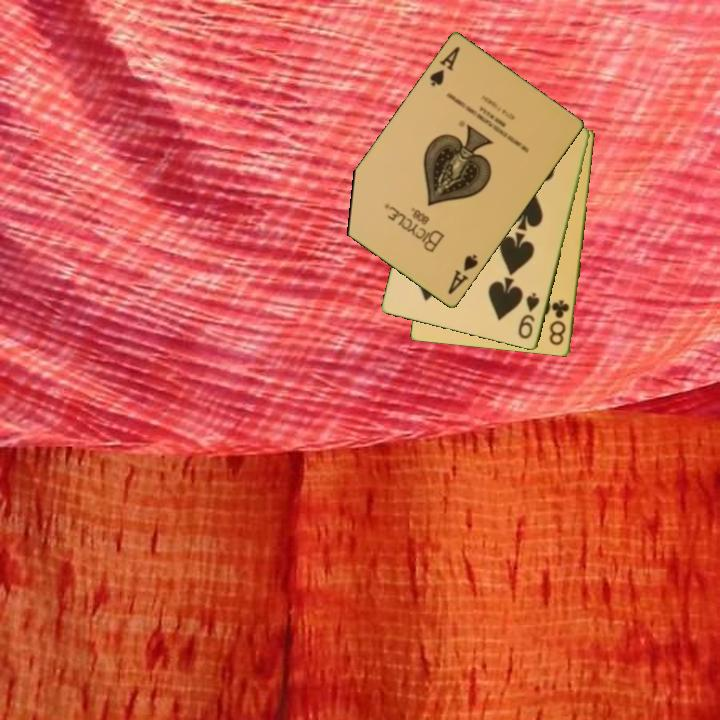8c: (546, 297, 572, 348)
9s: (515, 289, 543, 342)
As: (444, 251, 481, 298), (426, 43, 463, 90)
